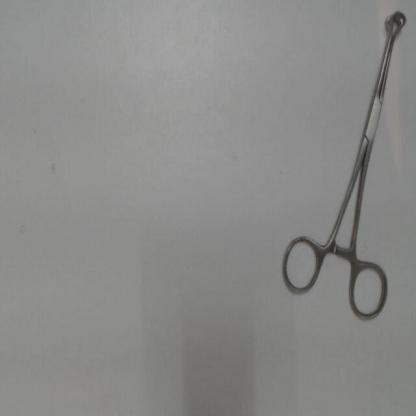Babcock Tissue Forceps: (277, 7, 409, 328)
